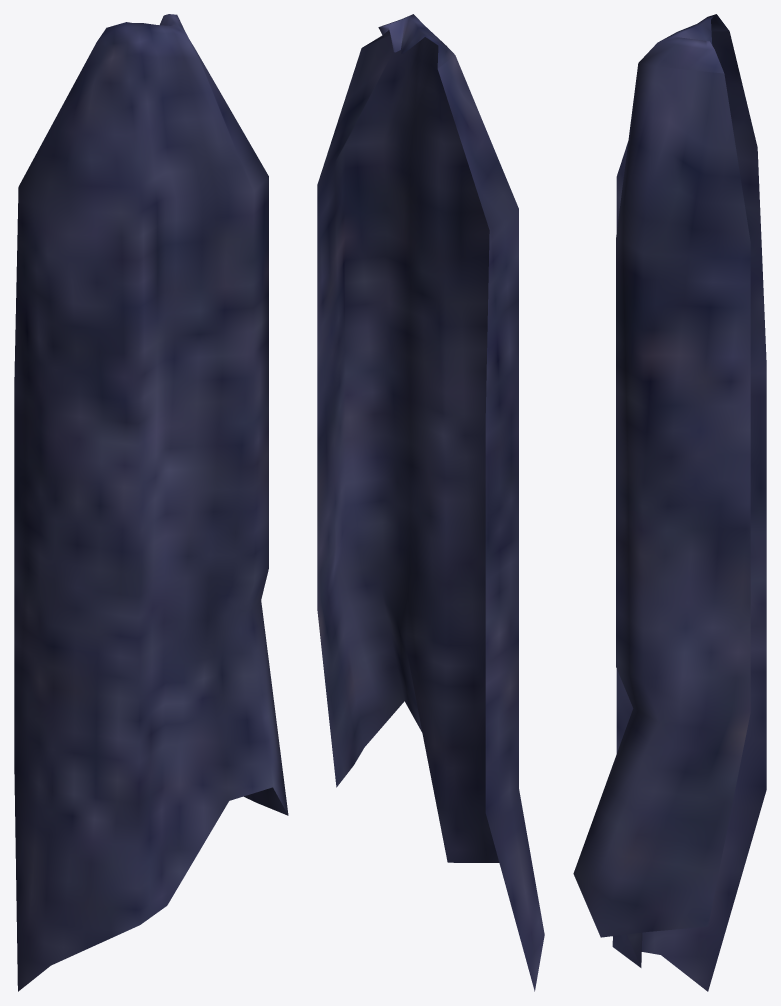
File: towel_1.fbx
The picture shows the model from 3 angles, left to right: view 1: azimuth 30°, elevation 25°; view 2: azimuth 150°, elevation 25°; view 3: azimuth 270°, elevation 25°; orthographic projection. The views are drawn at different scales.
Visible parts, largest first — view 1: pPlane1; view 2: pPlane1; view 3: pPlane1.
Boxes of the visible parts, box(x1,y1,x2,y2) form: pPlane1: box(14, 14, 288, 991); pPlane1: box(317, 14, 544, 991); pPlane1: box(573, 14, 766, 991).
Size of the model in its own units: 18.87 by 76.67 by 13.01.
Materials: 1 (1 with a texture image).
